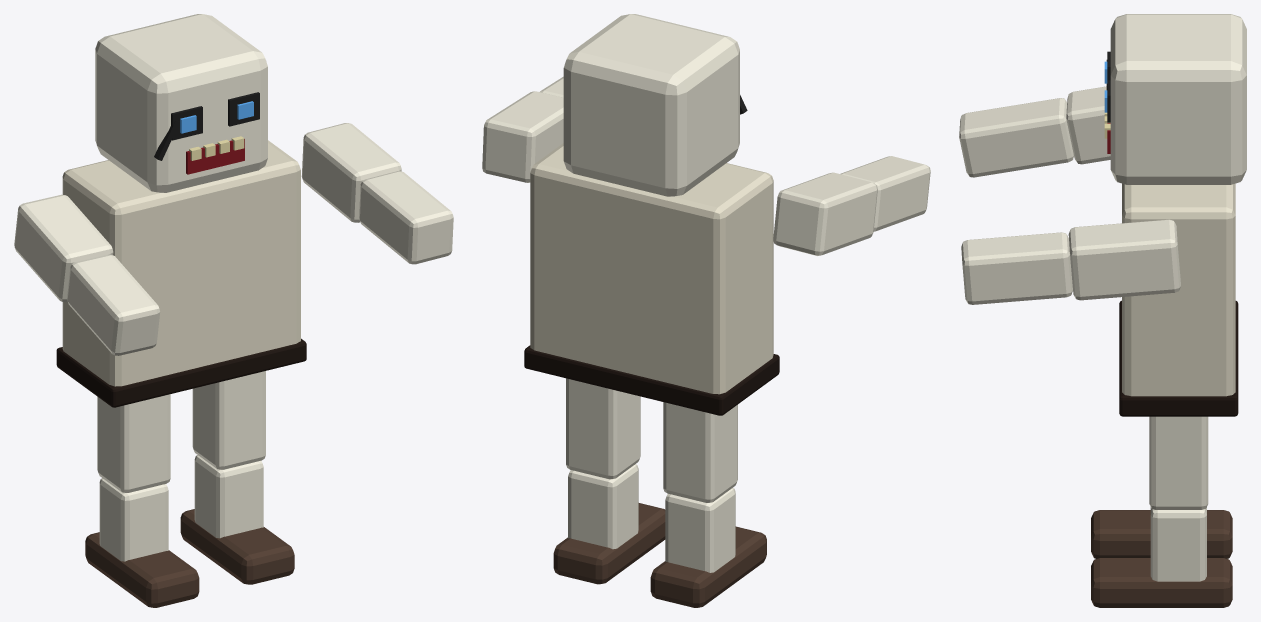
The model's file is zombi_esqueleto.obj.
3 renders of one model, left to right at view 1: azimuth 30°, elevation 25°; view 2: azimuth 150°, elevation 25°; view 3: azimuth 270°, elevation 25°, orthographic. The views are drawn at different scales.
Parts seen in each view (by area): view 1: Cube, Head, LeftLeg, RightLeg, LeftArm, RightArm, Cube.001; view 2: Cube, Head, LeftLeg, RightLeg, LeftArm, RightArm, Cube.001; view 3: Head, Cube, RightLeg, RightArm, LeftArm, LeftLeg, Cube.001.
Boxes of the visible parts, left/top/right/bottom form: Cube: left=62, top=140, right=300, bottom=386; Head: left=95, top=14, right=267, bottom=192; LeftLeg: left=85, top=394, right=199, bottom=607; RightLeg: left=180, top=371, right=294, bottom=584; LeftArm: left=14, top=194, right=160, bottom=355; RightArm: left=301, top=123, right=453, bottom=264; Cube.001: left=56, top=338, right=306, bottom=407; Cube: left=530, top=143, right=773, bottom=394; Head: left=563, top=14, right=747, bottom=196; LeftLeg: left=650, top=402, right=766, bottom=607; RightLeg: left=553, top=378, right=665, bottom=584; LeftArm: left=773, top=156, right=930, bottom=255; RightArm: left=482, top=76, right=563, bottom=182; Cube.001: left=524, top=345, right=779, bottom=415; Head: left=1104, top=14, right=1246, bottom=184; Cube: left=1122, top=183, right=1235, bottom=396; RightLeg: left=1091, top=416, right=1232, bottom=607; RightArm: left=961, top=219, right=1180, bottom=304; LeftArm: left=959, top=86, right=1110, bottom=177; LeftLeg: left=1091, top=510, right=1232, bottom=558; Cube.001: left=1119, top=300, right=1238, bottom=416.
Bounding box in the file's own units: 3.57 × 5.22 × 2.54.
Materials: 3 (1 with a texture image).
